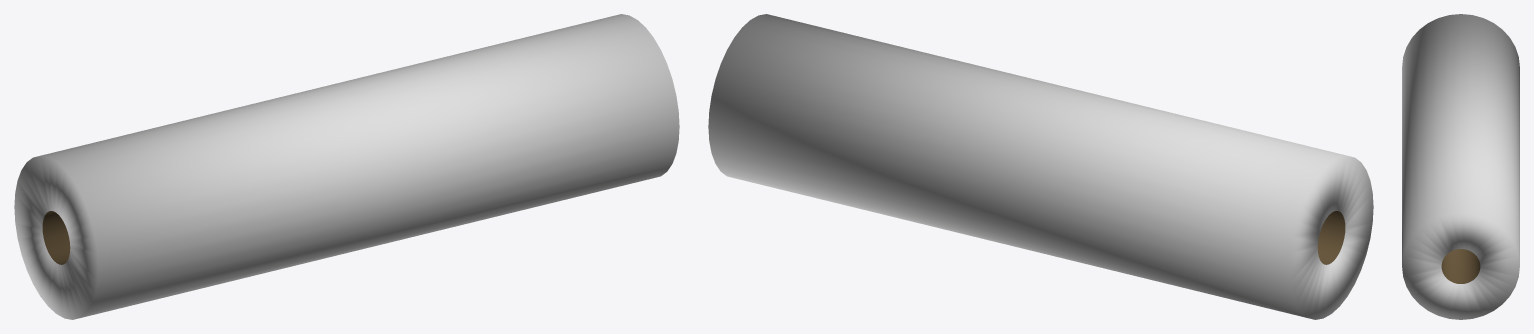
Rendered from Rollos.fbx.
3 views of the same model, side by side, from view 1: azimuth 30°, elevation 25°; view 2: azimuth 150°, elevation 25°; view 3: azimuth 270°, elevation 25° (orthographic). The views are drawn at different scales.
Parts seen in each view (by area): view 1: Cylinder.003; view 2: Cylinder.003; view 3: Cylinder.003.
Boxes of the visible parts, x1,y1,x2,y2 form: Cylinder.003: (14,14,679,319); Cylinder.003: (708,14,1373,319); Cylinder.003: (1402,14,1519,319).
Size of the model in its own units: 200 by 50 by 50.
